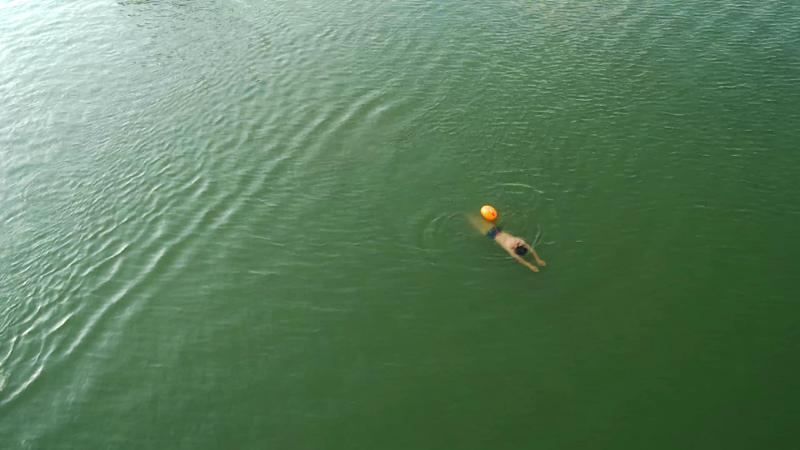swimmers: (468, 214, 547, 274)
